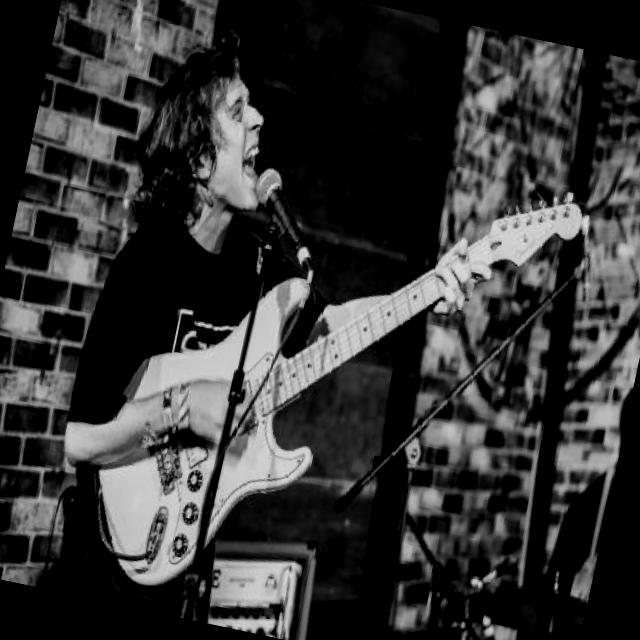Person: (28, 7, 521, 640)
